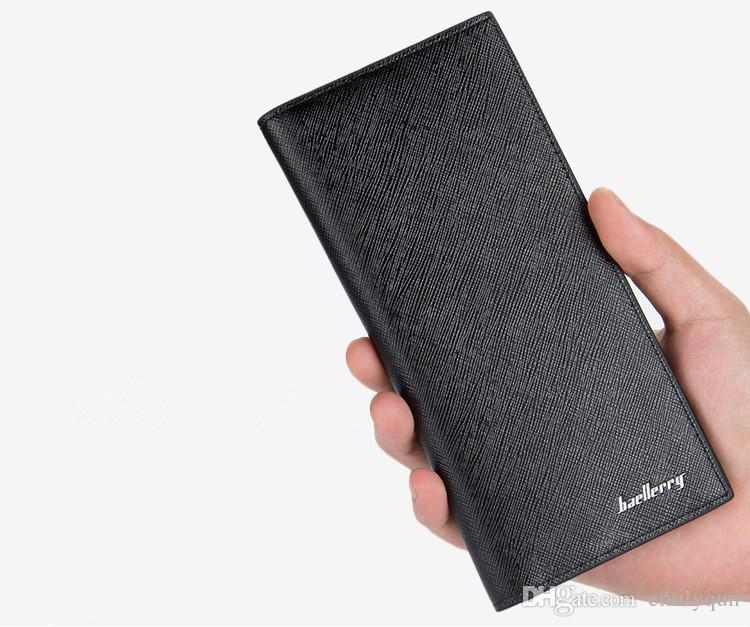monedero: (256, 9, 737, 615)
